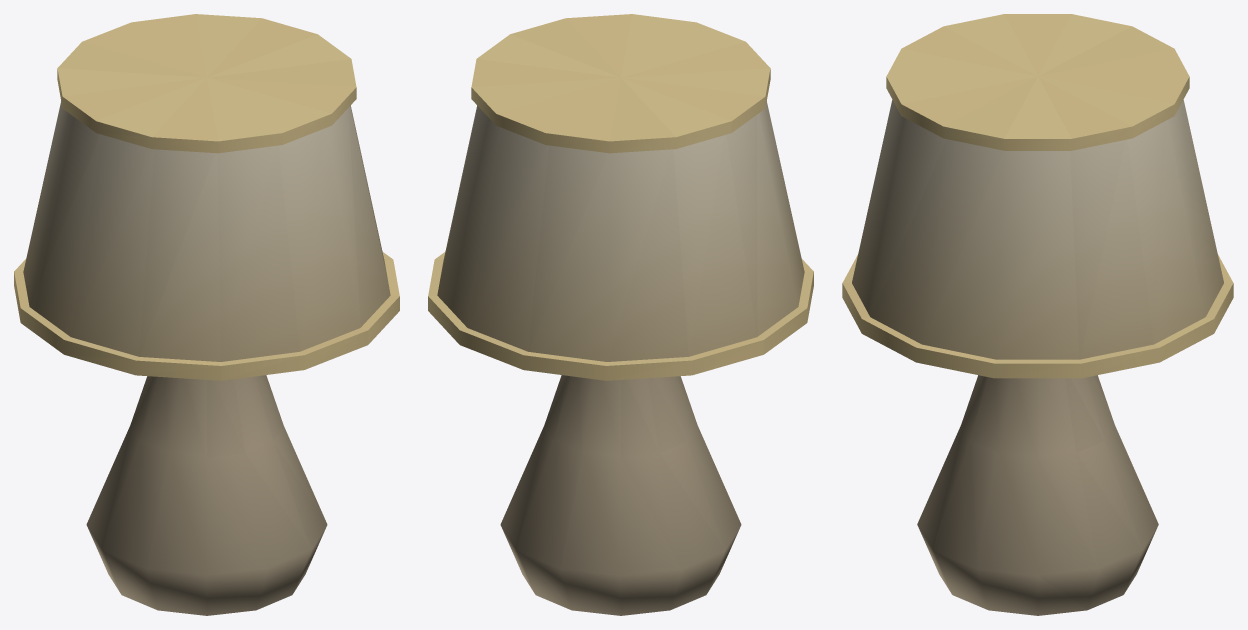
Rendered from bedside_lamp.glb.
The picture shows the model from 3 angles, left to right: view 1: azimuth 30°, elevation 25°; view 2: azimuth 150°, elevation 25°; view 3: azimuth 270°, elevation 25°; orthographic projection.
Visible parts, largest first — view 1: bedside_lamp; view 2: bedside_lamp; view 3: bedside_lamp.
Part boxes in pixels (x1,y1,x2,y2): bedside_lamp: (14, 14, 399, 615); bedside_lamp: (428, 14, 813, 615); bedside_lamp: (842, 14, 1233, 615).
Size of the model in its own units: 0.3471 by 0.51 by 0.356.
